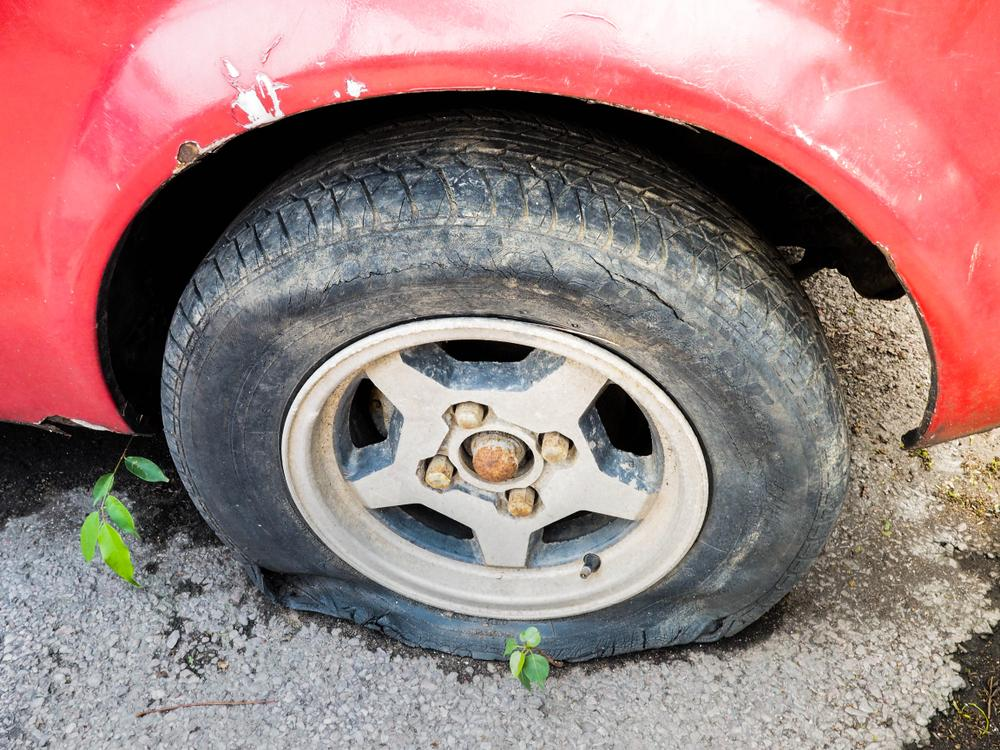scratch: (167, 40, 370, 172)
tire flat: (161, 112, 845, 663)
